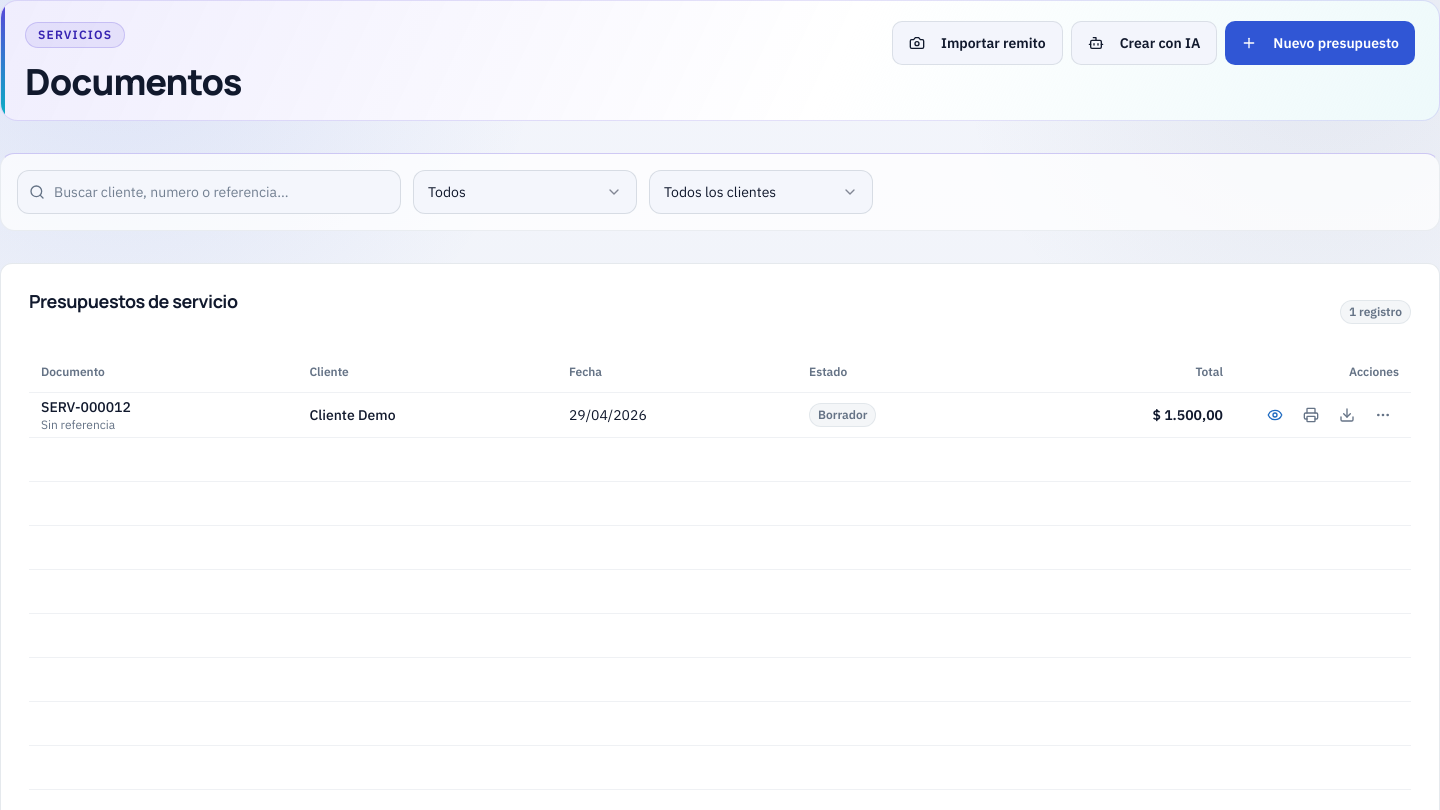
Test: ServiceDocumentsPage › offers draft and issue actions in the service document form
Click the button "Nuevo presupuesto".
click(1320, 43)  # box [1225, 21, 1415, 65]
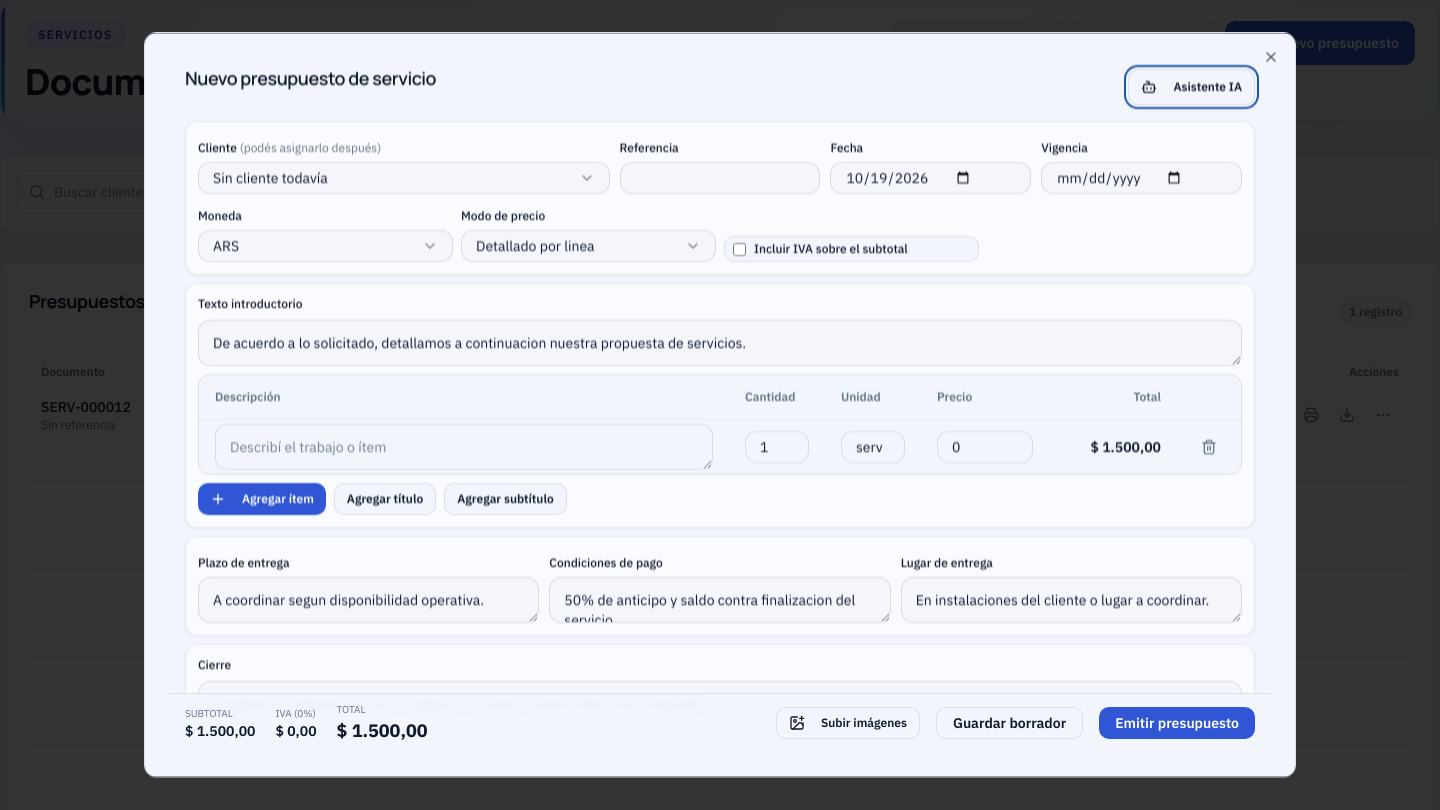
Now the button "Guardar borrador" is shown, box [936, 707, 1083, 739]
Now the button "Emitir presupuesto" is shown, box [1099, 707, 1255, 739]
